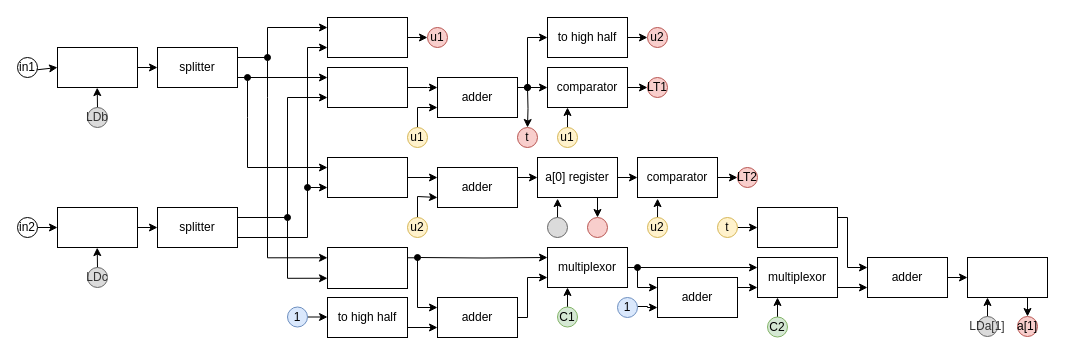
This 1065x355 diagram has some shape labels left out. The box of each missing label's shape, as (x1, y1, x2, y2) in pixels:
a[0]: (586, 216, 608, 238)
a[0] multiplier: (326, 156, 408, 198)
a[1] multiplier: (326, 246, 408, 288)
a[1] register: (966, 256, 1048, 298)
b register: (56, 46, 138, 88)
c register: (56, 206, 138, 248)
high half extraction: (756, 206, 838, 248)
LDa[0]: (546, 216, 568, 238)
t muliplier: (326, 66, 408, 108)
u multiplier: (326, 16, 408, 58)
